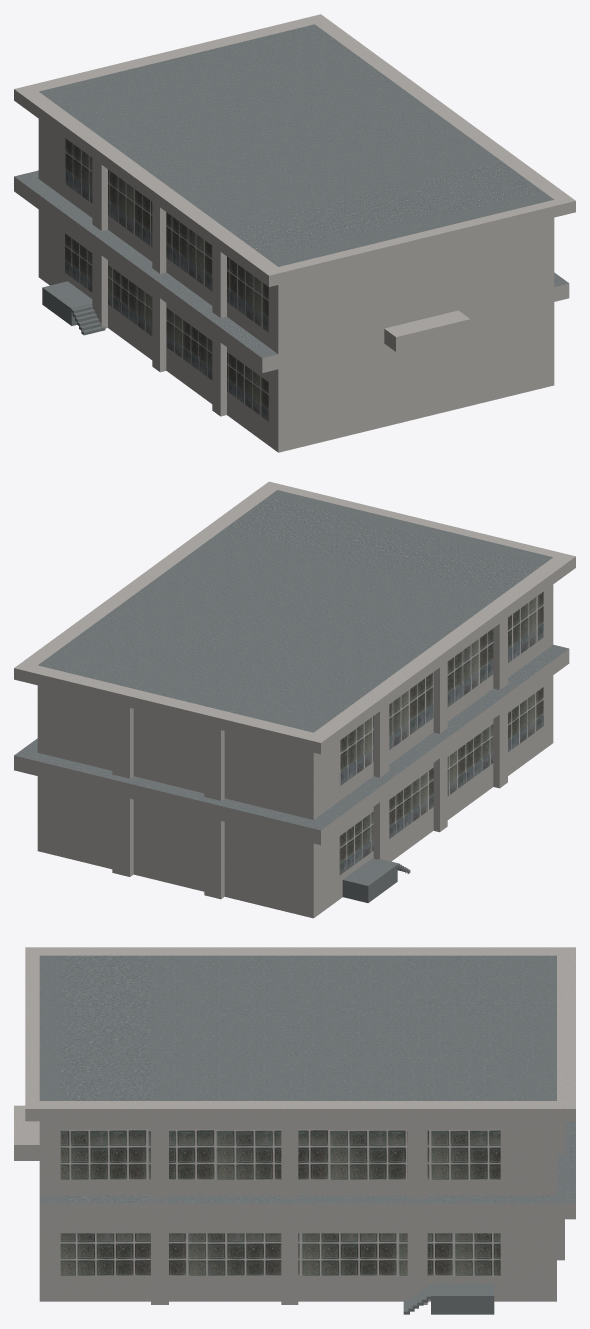
Rendered from 2gokan.fbx.
The picture shows the model from 3 angles, top to bottom: view 1: azimuth 30°, elevation 25°; view 2: azimuth 150°, elevation 25°; view 3: azimuth 270°, elevation 25°; orthographic projection. The views are drawn at different scales.
Parts seen in each view (by area): view 1: Cube, Cube.001, Stairs; view 2: Cube, Cube.001; view 3: Cube, Cube.002.
Boxes of the visible parts, x1,y1,x2,y2 form: Cube: (14, 14, 575, 452); Cube.001: (42, 281, 92, 325); Stairs: (70, 304, 105, 335); Cube: (14, 481, 575, 918); Cube.001: (342, 858, 397, 902); Cube: (14, 947, 575, 1304); Cube.002: (431, 1283, 494, 1314).
Size of the model in its own units: 1368 by 743 by 1888.
